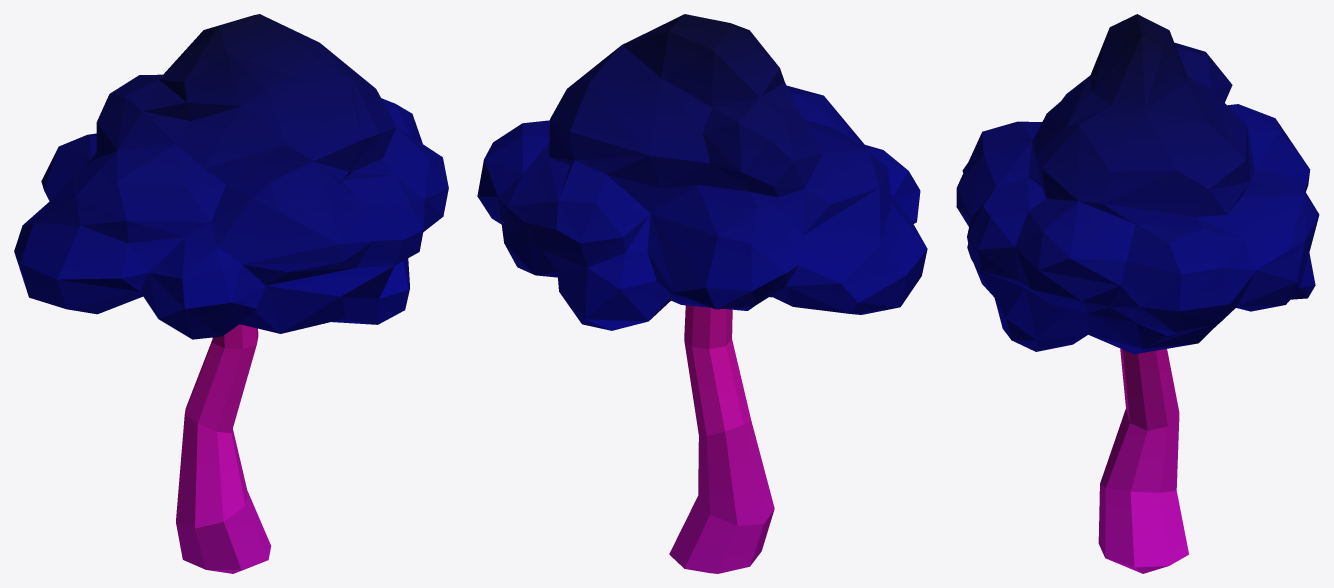
File: SM_Tree_Round_01.gltf
3 renders of one model, left to right at view 1: azimuth 30°, elevation 25°; view 2: azimuth 150°, elevation 25°; view 3: azimuth 270°, elevation 25°, orthographic.
Visible parts, largest first — view 1: SM_Tree_Round_01; view 2: SM_Tree_Round_01; view 3: SM_Tree_Round_01.
Part boxes in pixels (x1,y1,x2,y2): SM_Tree_Round_01: [14, 14, 448, 573]; SM_Tree_Round_01: [477, 14, 927, 573]; SM_Tree_Round_01: [956, 14, 1319, 573].
Size of the model in its own units: 2.92 by 3.76 by 2.24.
